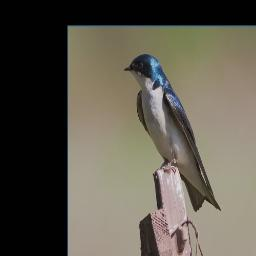Swallow: (123, 53, 223, 214)
